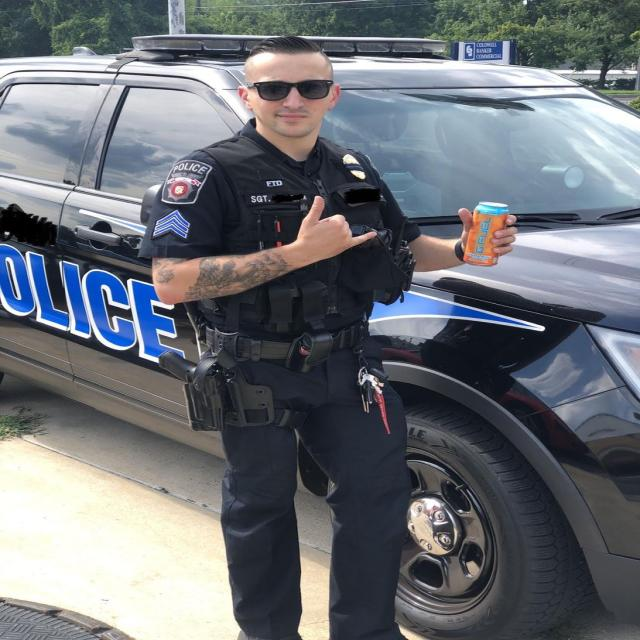police: (136, 29, 523, 569)
